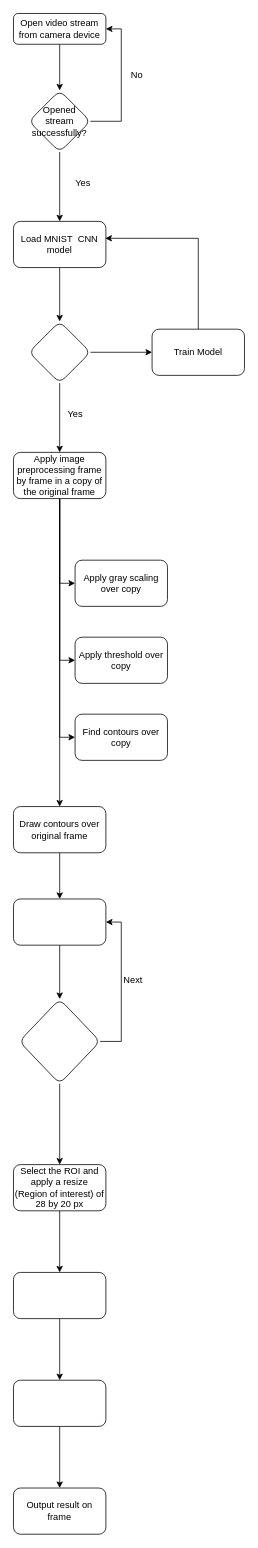
This 258x1548 diagram has some shape labels left out. The centre of each missing label's shape, as x and y in pixels:
"Call prediction passing the scaled ROI as argument" goes at (x=59, y=1295).
"Is contour bigger than 120 px width and 120 px height?" goes at (x=59, y=1041).
"Iterate over the list of contours" goes at (x=59, y=921).
"Model loaded successfully?" goes at (x=59, y=352).
"Save the highest probability" goes at (x=59, y=1402).
